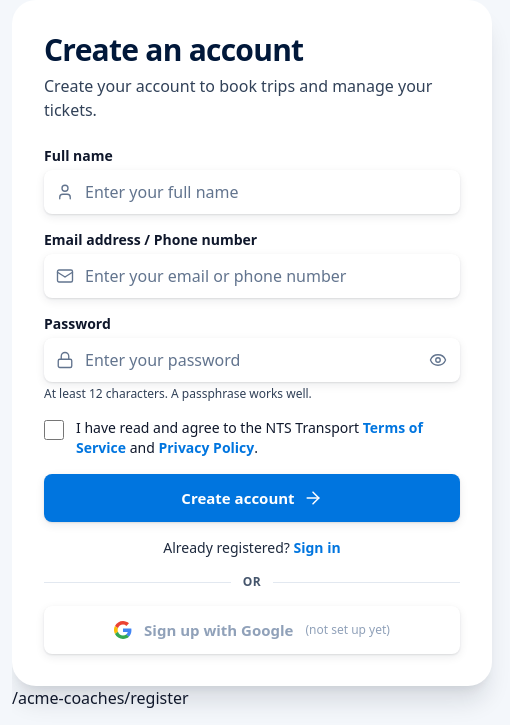
Test: Sign up with a phone number › registers by email, then goes to the code page
In the field labelled "Email address / Phone number": (252, 276) [44,254,460,298], type "Ada@Example.com"
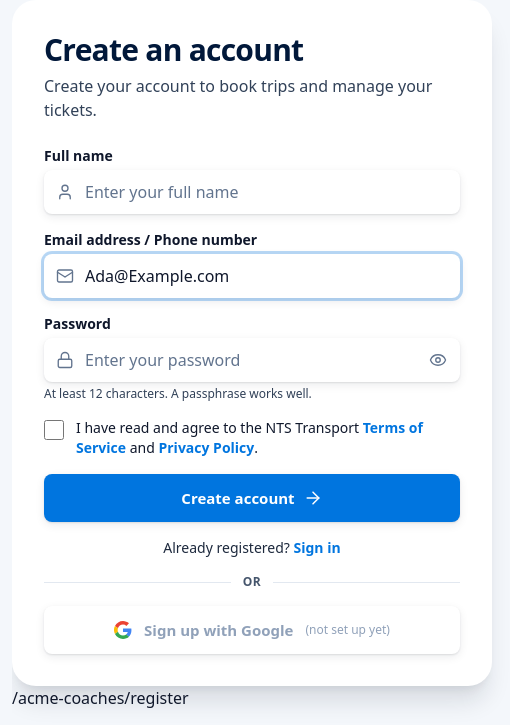
In the field labelled "Full name": (252, 192) [44,170,460,214], type "Ada Kamara"
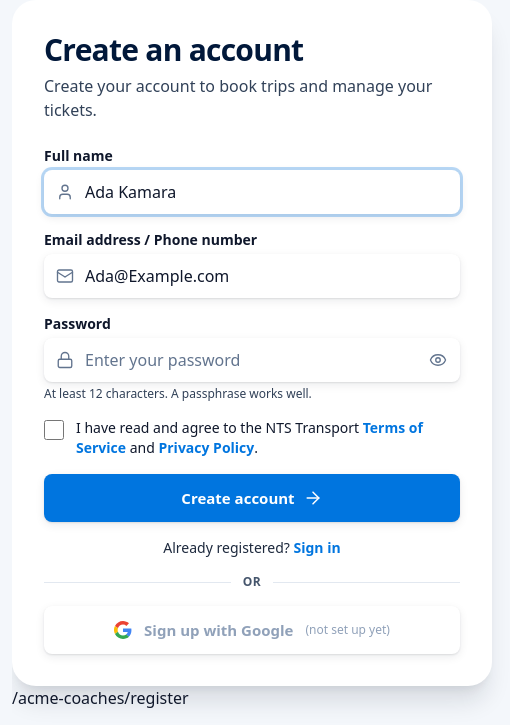
In the password field labelled "Password": (252, 360) [44,338,460,382], type "a-long-enough-password"
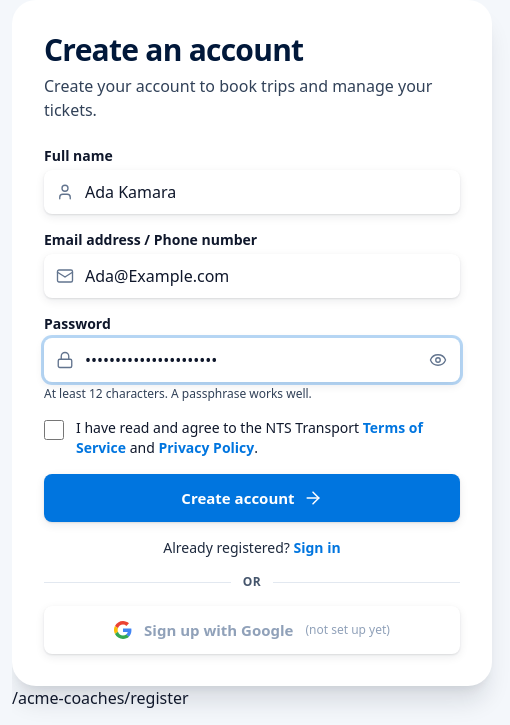
Click the checkbox: (54, 430) [44,420,64,440]
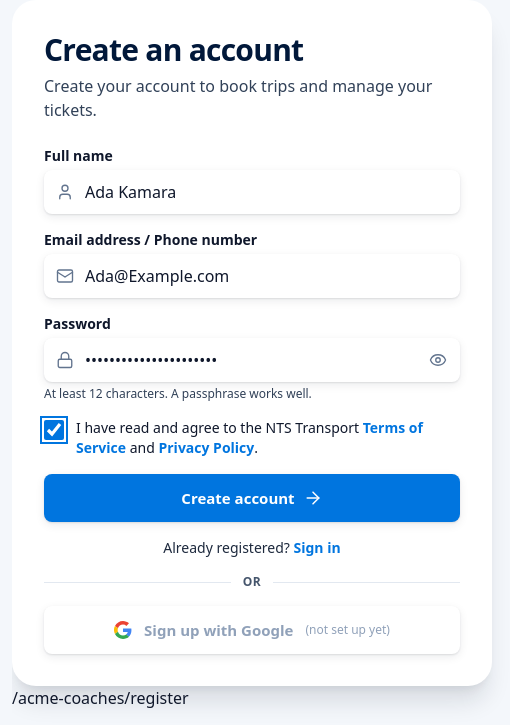
Click the button "Create account": (252, 498) [44,474,460,522]
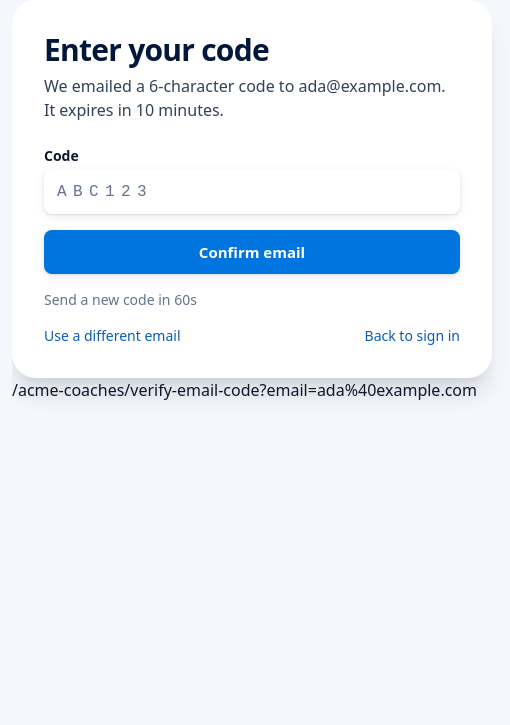
Check: the text with test id "where" shows "/verify-email-code", box [12,379,477,401]
Check: the text with test id "where" reads "/acme-coaches/verify-email-code?email=ada%40example.com", box [12,379,477,401]
